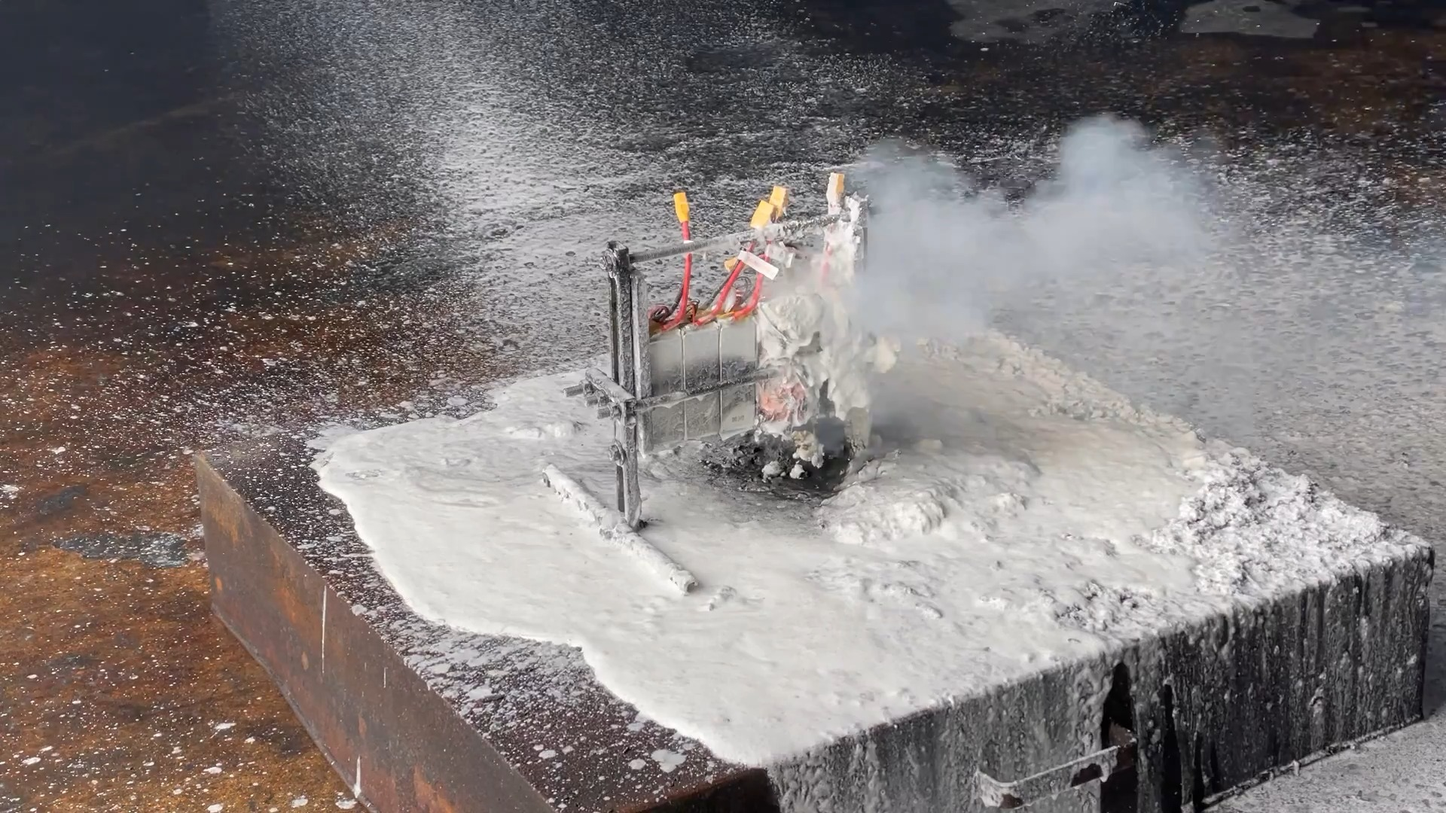smoke: (815, 107, 1286, 446)
